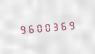nine: (17, 22, 24, 35), (65, 18, 72, 31)
six: (25, 21, 32, 35), (57, 19, 64, 32)
three: (49, 19, 56, 33)
zero: (33, 21, 40, 34), (41, 20, 48, 33)
